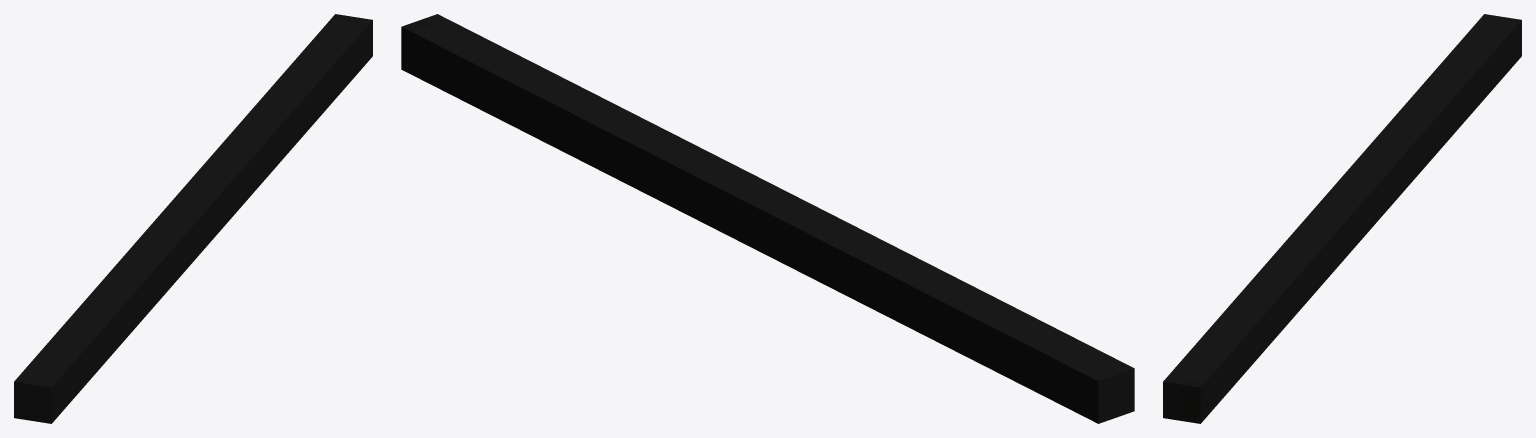
Rendered from rear_brace__brace_rail_0.glb.
3 views of the same model, side by side, from view 1: azimuth 90°, elevation 25°; view 2: azimuth 150°, elevation 25°; view 3: azimuth 270°, elevation 25° (orthographic). The views are drawn at different scales.
Parts seen in each view (by area): view 1: world; view 2: world; view 3: world.
Boxes of the visible parts, left/top/right/bottom form: world: left=14, top=14, right=372, bottom=423; world: left=401, top=14, right=1134, bottom=423; world: left=1163, top=14, right=1521, bottom=423.
Size of the model in its own units: 0.6604 by 0.03 by 0.2681.
Materials: 1 (1 with a texture image).
